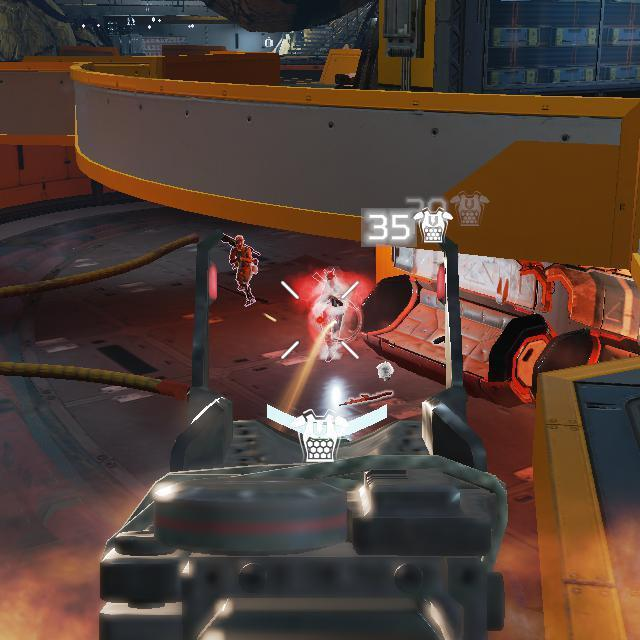avatar: (314, 268, 348, 363), (228, 234, 260, 308)
